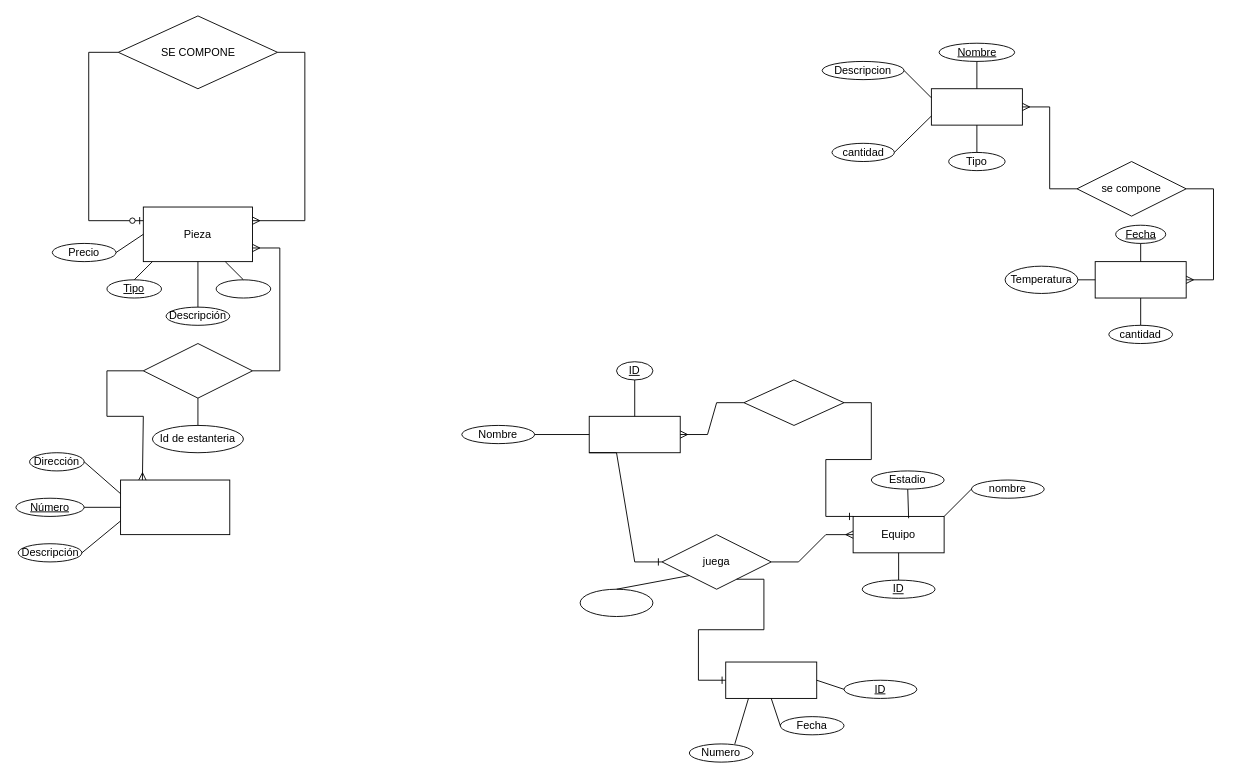
This 1237x778 diagram has some shape labels left out. Here are the shapes that lost their labels. From the top down, the centre of each, then its label:
At [976,106]: "Plato".
At [243,288]: "Modelo".
At [1140,279]: "Menu".
At [197,370]: "Se almacena".
At [793,402]: "pertenece".
At [634,434]: "Jugador".
At [175,507]: "Almacén".
At [616,602]: "Resultado".
At [771,679]: "Jornada".
